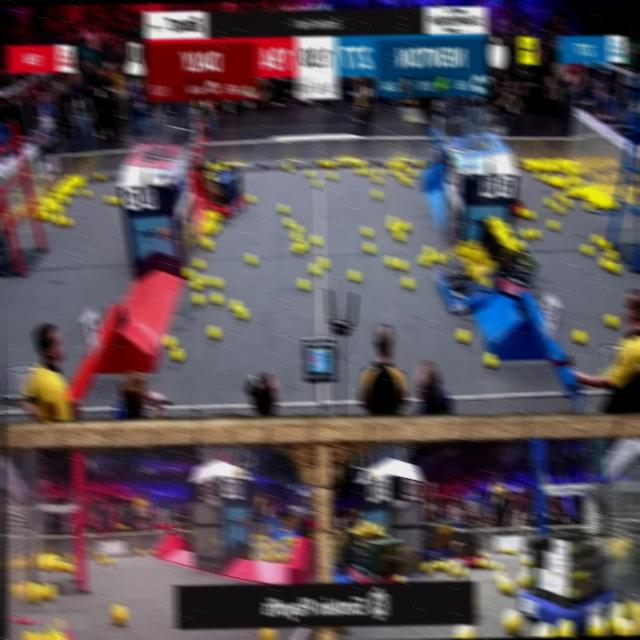ball_ground: (171, 346, 183, 361), (573, 329, 585, 344), (163, 333, 175, 347), (485, 352, 496, 367), (457, 330, 468, 343), (191, 290, 201, 304), (208, 324, 218, 338), (592, 233, 603, 244), (318, 255, 328, 267), (298, 278, 308, 290), (349, 269, 359, 281), (236, 306, 246, 318), (246, 252, 256, 263), (582, 244, 592, 255), (211, 275, 221, 286), (385, 254, 394, 266), (394, 260, 404, 270), (310, 235, 320, 245), (362, 242, 372, 252), (547, 219, 557, 229), (608, 263, 617, 274), (542, 198, 552, 207), (584, 202, 593, 212), (362, 225, 370, 236), (372, 189, 381, 198), (284, 217, 293, 226), (310, 264, 318, 274), (279, 204, 287, 214), (401, 220, 409, 230), (524, 209, 532, 218), (111, 195, 120, 203), (283, 163, 291, 172), (82, 187, 90, 196), (328, 170, 336, 179), (401, 176, 410, 184), (312, 178, 320, 186), (408, 168, 416, 176), (390, 167, 398, 175), (104, 195, 112, 202), (414, 158, 422, 165), (535, 172, 543, 179), (363, 167, 370, 174), (323, 158, 330, 165), (341, 159, 349, 165)
goal: (121, 118, 184, 161), (450, 111, 511, 148)
robot_blue: (518, 529, 616, 632), (433, 234, 499, 318), (418, 518, 457, 565)
robot_red: (340, 514, 404, 592), (479, 216, 535, 297), (196, 158, 243, 216), (448, 526, 485, 569)
